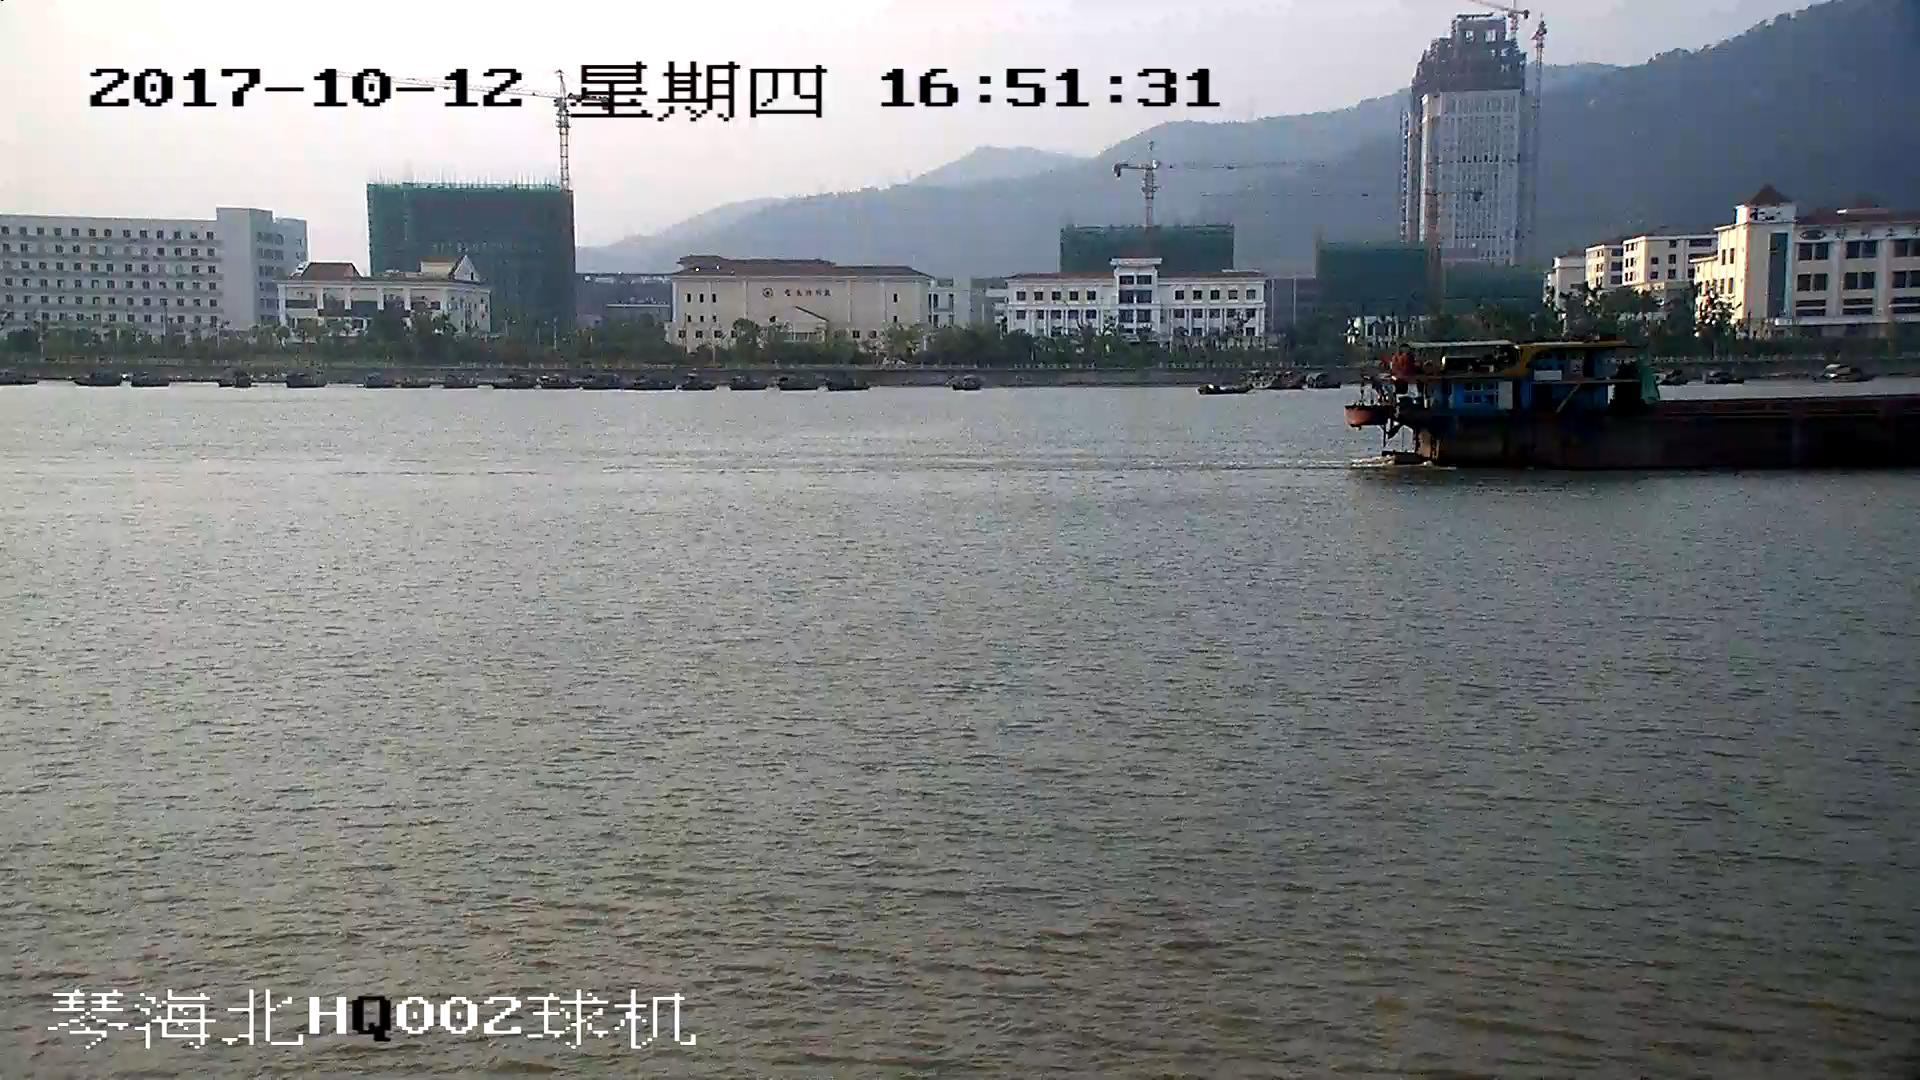Ship: (1345, 343, 1920, 471)
